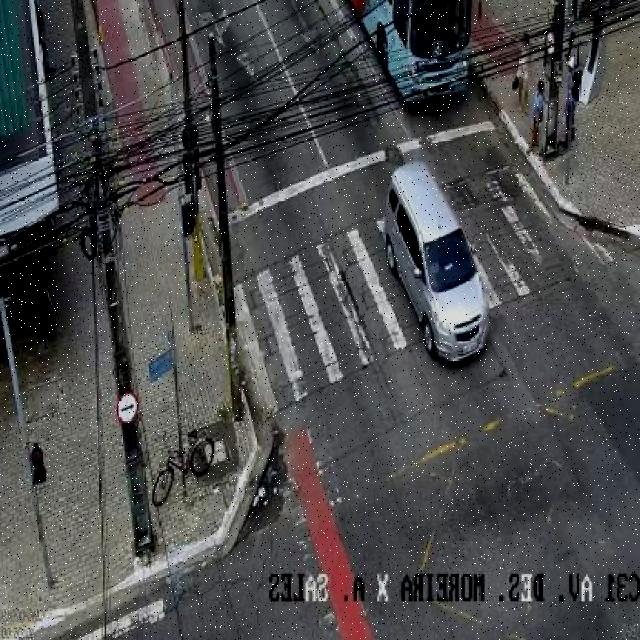Bus: (341, 0, 487, 109)
Car: (383, 160, 492, 366)
Cycle: (150, 427, 215, 508)
